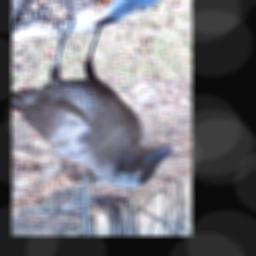Crow: (12, 15, 174, 188)
